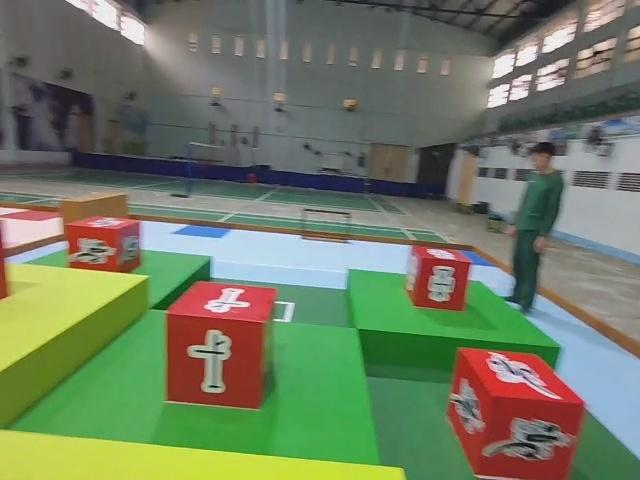R1: (443, 345, 589, 480), (62, 213, 142, 275)
R2 Real: (162, 277, 280, 411), (402, 241, 473, 312)
